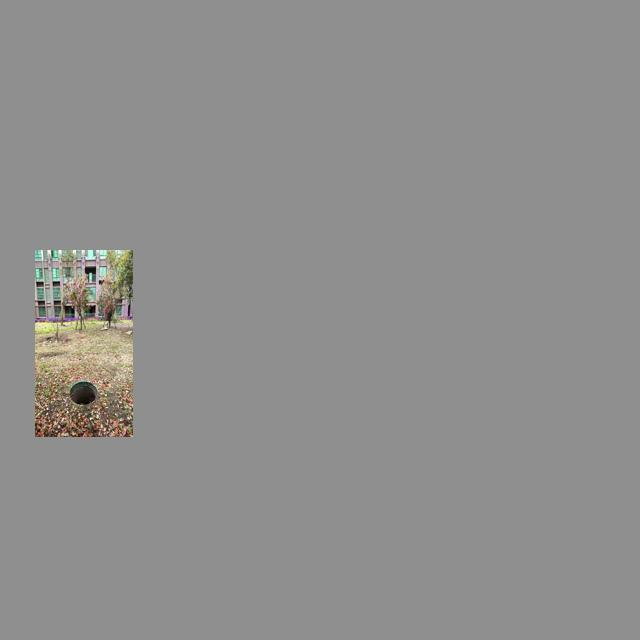lose: (69, 381, 97, 405)
